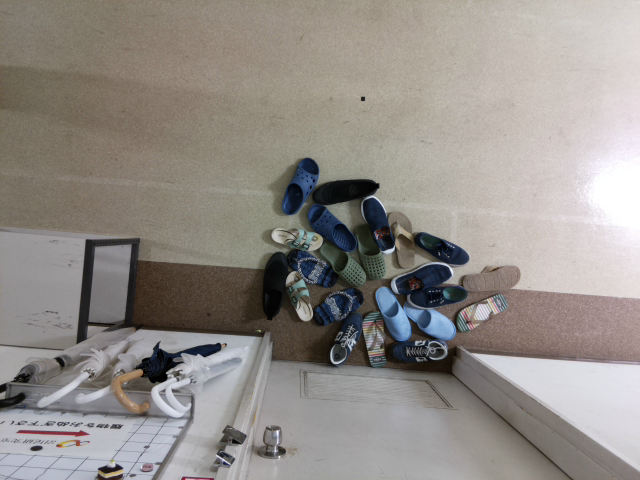Copy of Copy of Copy of Copy of Copy of Copy of Copy of sandal: (287, 248, 338, 288)
Copy of Copy of Copy of Copy of Copy of Copy of Copy of shoes: (405, 285, 468, 310)
Copy of Copy of Copy of Copy of Copy of Copy of sandal: (312, 285, 363, 326)
Copy of Copy of Copy of Copy of Copy of Copy of shoes: (385, 338, 449, 364)
Copy of Copy of Copy of Copy of Copy of sandal: (387, 211, 413, 268)
Copy of Copy of Copy of Copy of Copy of shoes: (328, 312, 363, 366)
Copy of Copy of Copy of Copy of Copy of slipper: (319, 243, 365, 286)
Copy of Copy of Copy of Copy of sandal: (462, 265, 522, 291)
Copy of Copy of Copy of Copy of shoes: (413, 231, 470, 267)
Copy of Copy of Copy of Copy of slipper: (354, 223, 385, 280)
Copy of Copy of Copy of sandal: (362, 311, 386, 367)
Copy of Copy of Copy of shoes: (361, 195, 394, 256)
Copy of Copy of Copy of slipper: (402, 301, 456, 340)
Copy of Copy of sandal: (455, 292, 509, 332)
Copy of Copy of shoes: (391, 260, 453, 295)
Copy of Copy of slipper: (374, 285, 411, 343)
Copy of sandal: (286, 270, 313, 321)
Copy of shoes: (261, 251, 288, 321)
Copy of slipper: (307, 206, 356, 251)
sandal: (270, 227, 323, 252)
shoes: (312, 177, 379, 206)
slipper: (280, 156, 320, 216)
